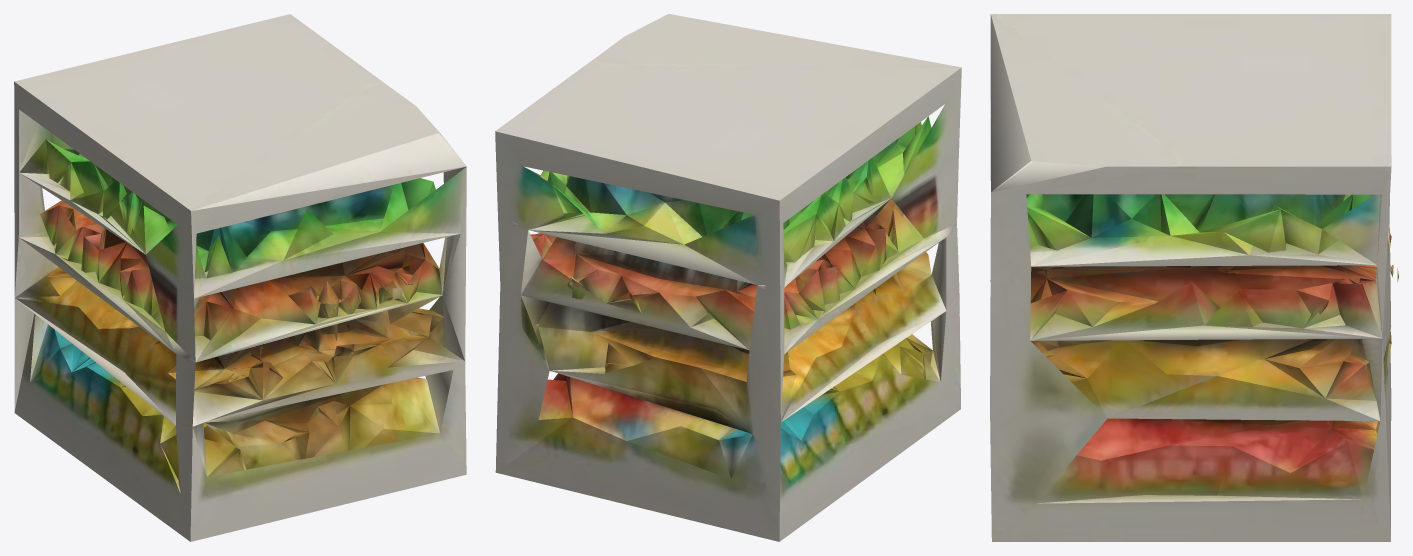
The model's file is supermarketShelfV2.glb.
3 renders of one model, left to right at view 1: azimuth 30°, elevation 25°; view 2: azimuth 150°, elevation 25°; view 3: azimuth 270°, elevation 25°, orthographic. The views are drawn at different scales.
Visible parts, largest first — view 1: model; view 2: model; view 3: model.
Boxes of the visible parts, x1,y1,x2,y2 form: model: (14,14,466,541); model: (495,14,961,541); model: (990,14,1398,541).
Size of the model in its own units: 1.64 by 1.88 by 1.86.
Materials: 1 (1 with a texture image).
